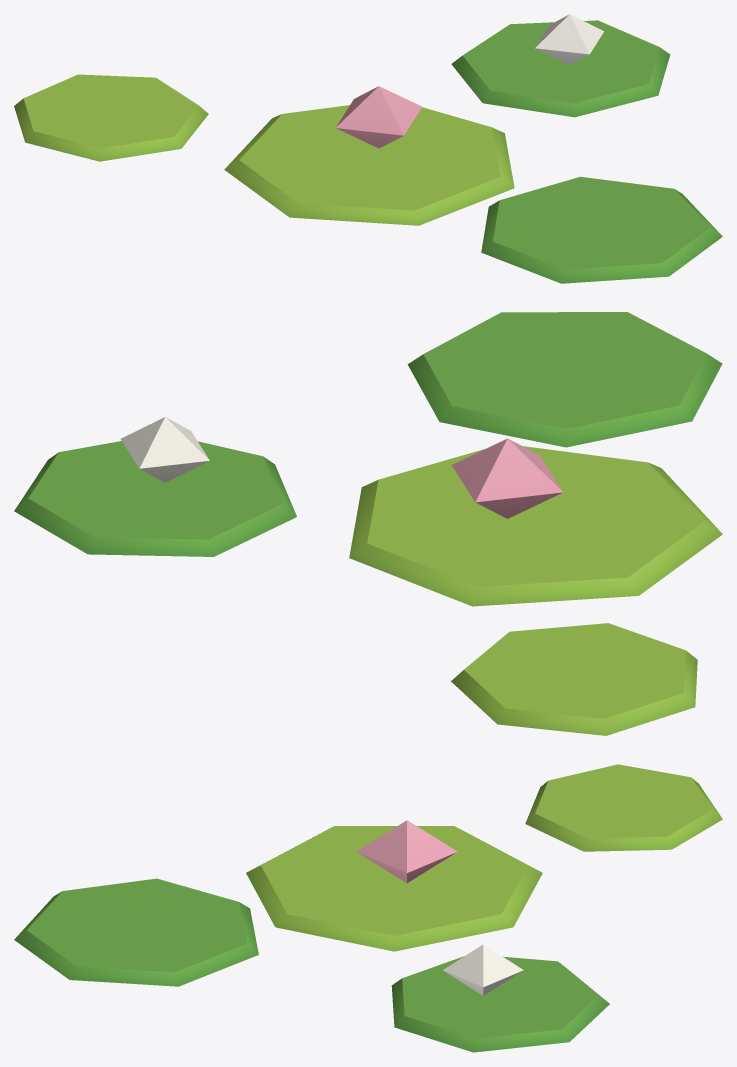
The model's file is lily_pads.glb.
3 renders of one model, top to bottom at view 1: azimuth 30°, elevation 25°; view 2: azimuth 150°, elevation 25°; view 3: azimuth 270°, elevation 25°, orthographic. The views are drawn at different scales.
Parts seen in each view (by area): view 1: lily_pads; view 2: lily_pads; view 3: lily_pads.
Part boxes in pixels (x1,y1,x2,y2): lily_pads: (14, 14, 722, 283); lily_pads: (14, 312, 722, 735); lily_pads: (14, 764, 722, 1052).
Bounding box in the file's own units: 5.28 × 0.63 × 5.59.
1 material, 1 textured.
